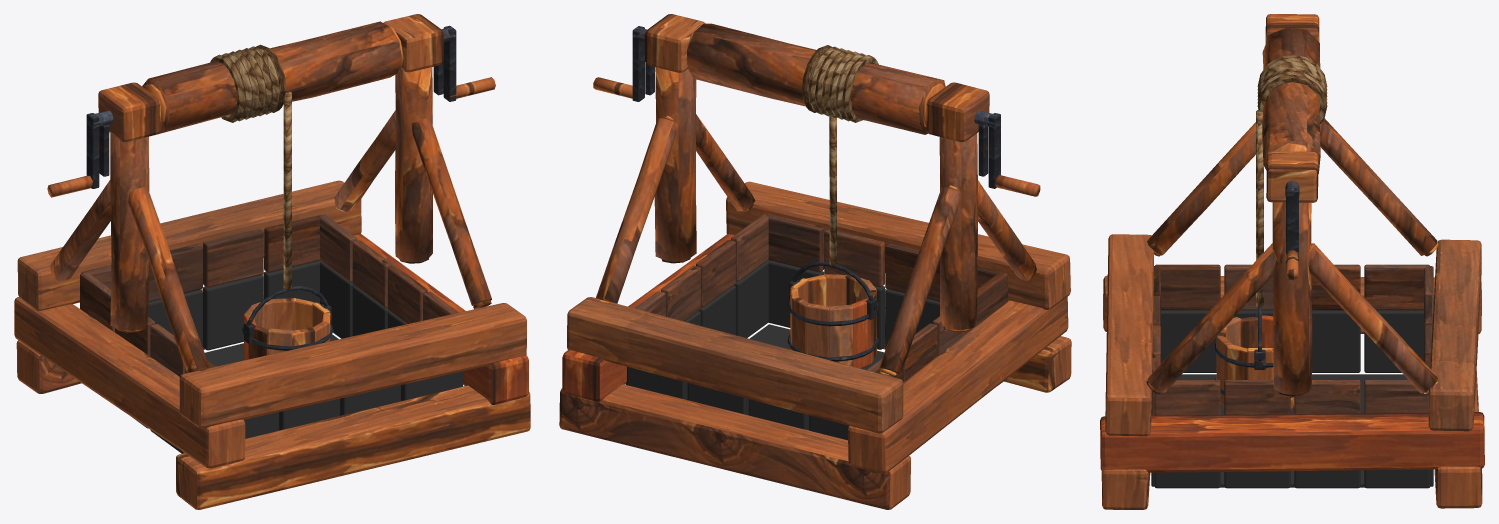
File: mp_shaft_windlass.glb
3 renders of one model, left to right at view 1: azimuth 30°, elevation 25°; view 2: azimuth 150°, elevation 25°; view 3: azimuth 270°, elevation 25°, orthographic.
Parts seen in each view (by area): view 1: model; view 2: model; view 3: model.
Boxes of the visible parts, x1=… form: model: x1=14, y1=14, x2=530, y2=509; model: x1=559, y1=14, x2=1071, y2=509; model: x1=1100, y1=14, x2=1484, y2=509.
Bounding box in the file's own units: 1.56 × 1.22 × 1.18.
22 materials, 21 textured.
